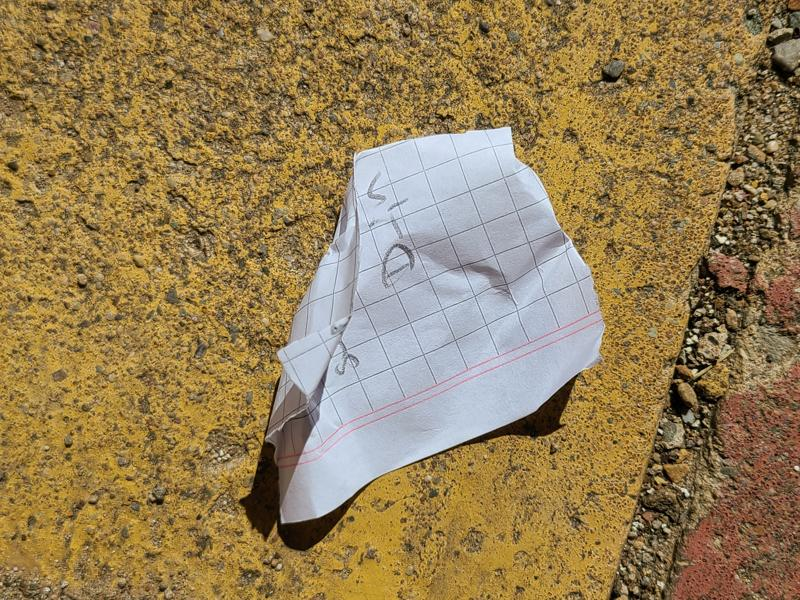papel: (267, 128, 605, 523)
